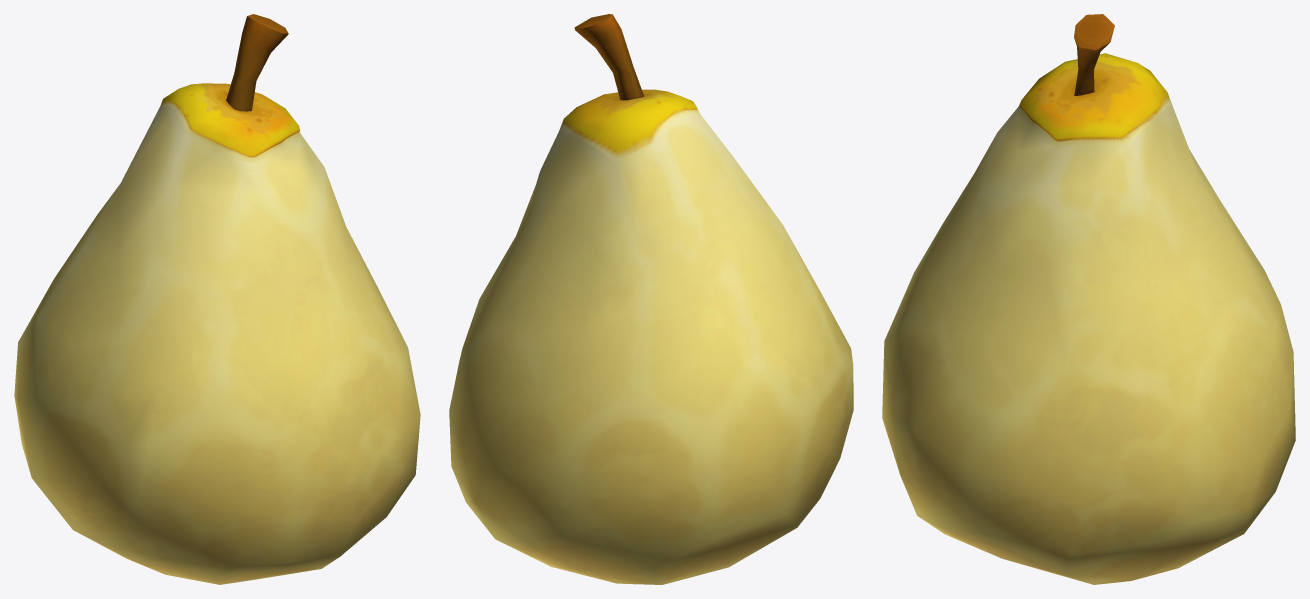
The model's file is SM_PearYellowPeeled.fbx.
3 views of the same model, side by side, from view 1: azimuth 30°, elevation 25°; view 2: azimuth 150°, elevation 25°; view 3: azimuth 270°, elevation 25° (orthographic). The views are drawn at different scales.
Parts seen in each view (by area): view 1: SM_PearYellowPeeled; view 2: SM_PearYellowPeeled; view 3: SM_PearYellowPeeled.
Boxes of the visible parts, x1,y1,x2,y2 form: SM_PearYellowPeeled: [14, 14, 420, 584]; SM_PearYellowPeeled: [449, 14, 853, 584]; SM_PearYellowPeeled: [882, 14, 1295, 584].
Size of the model in its own units: 12.56 by 18.72 by 12.59.
